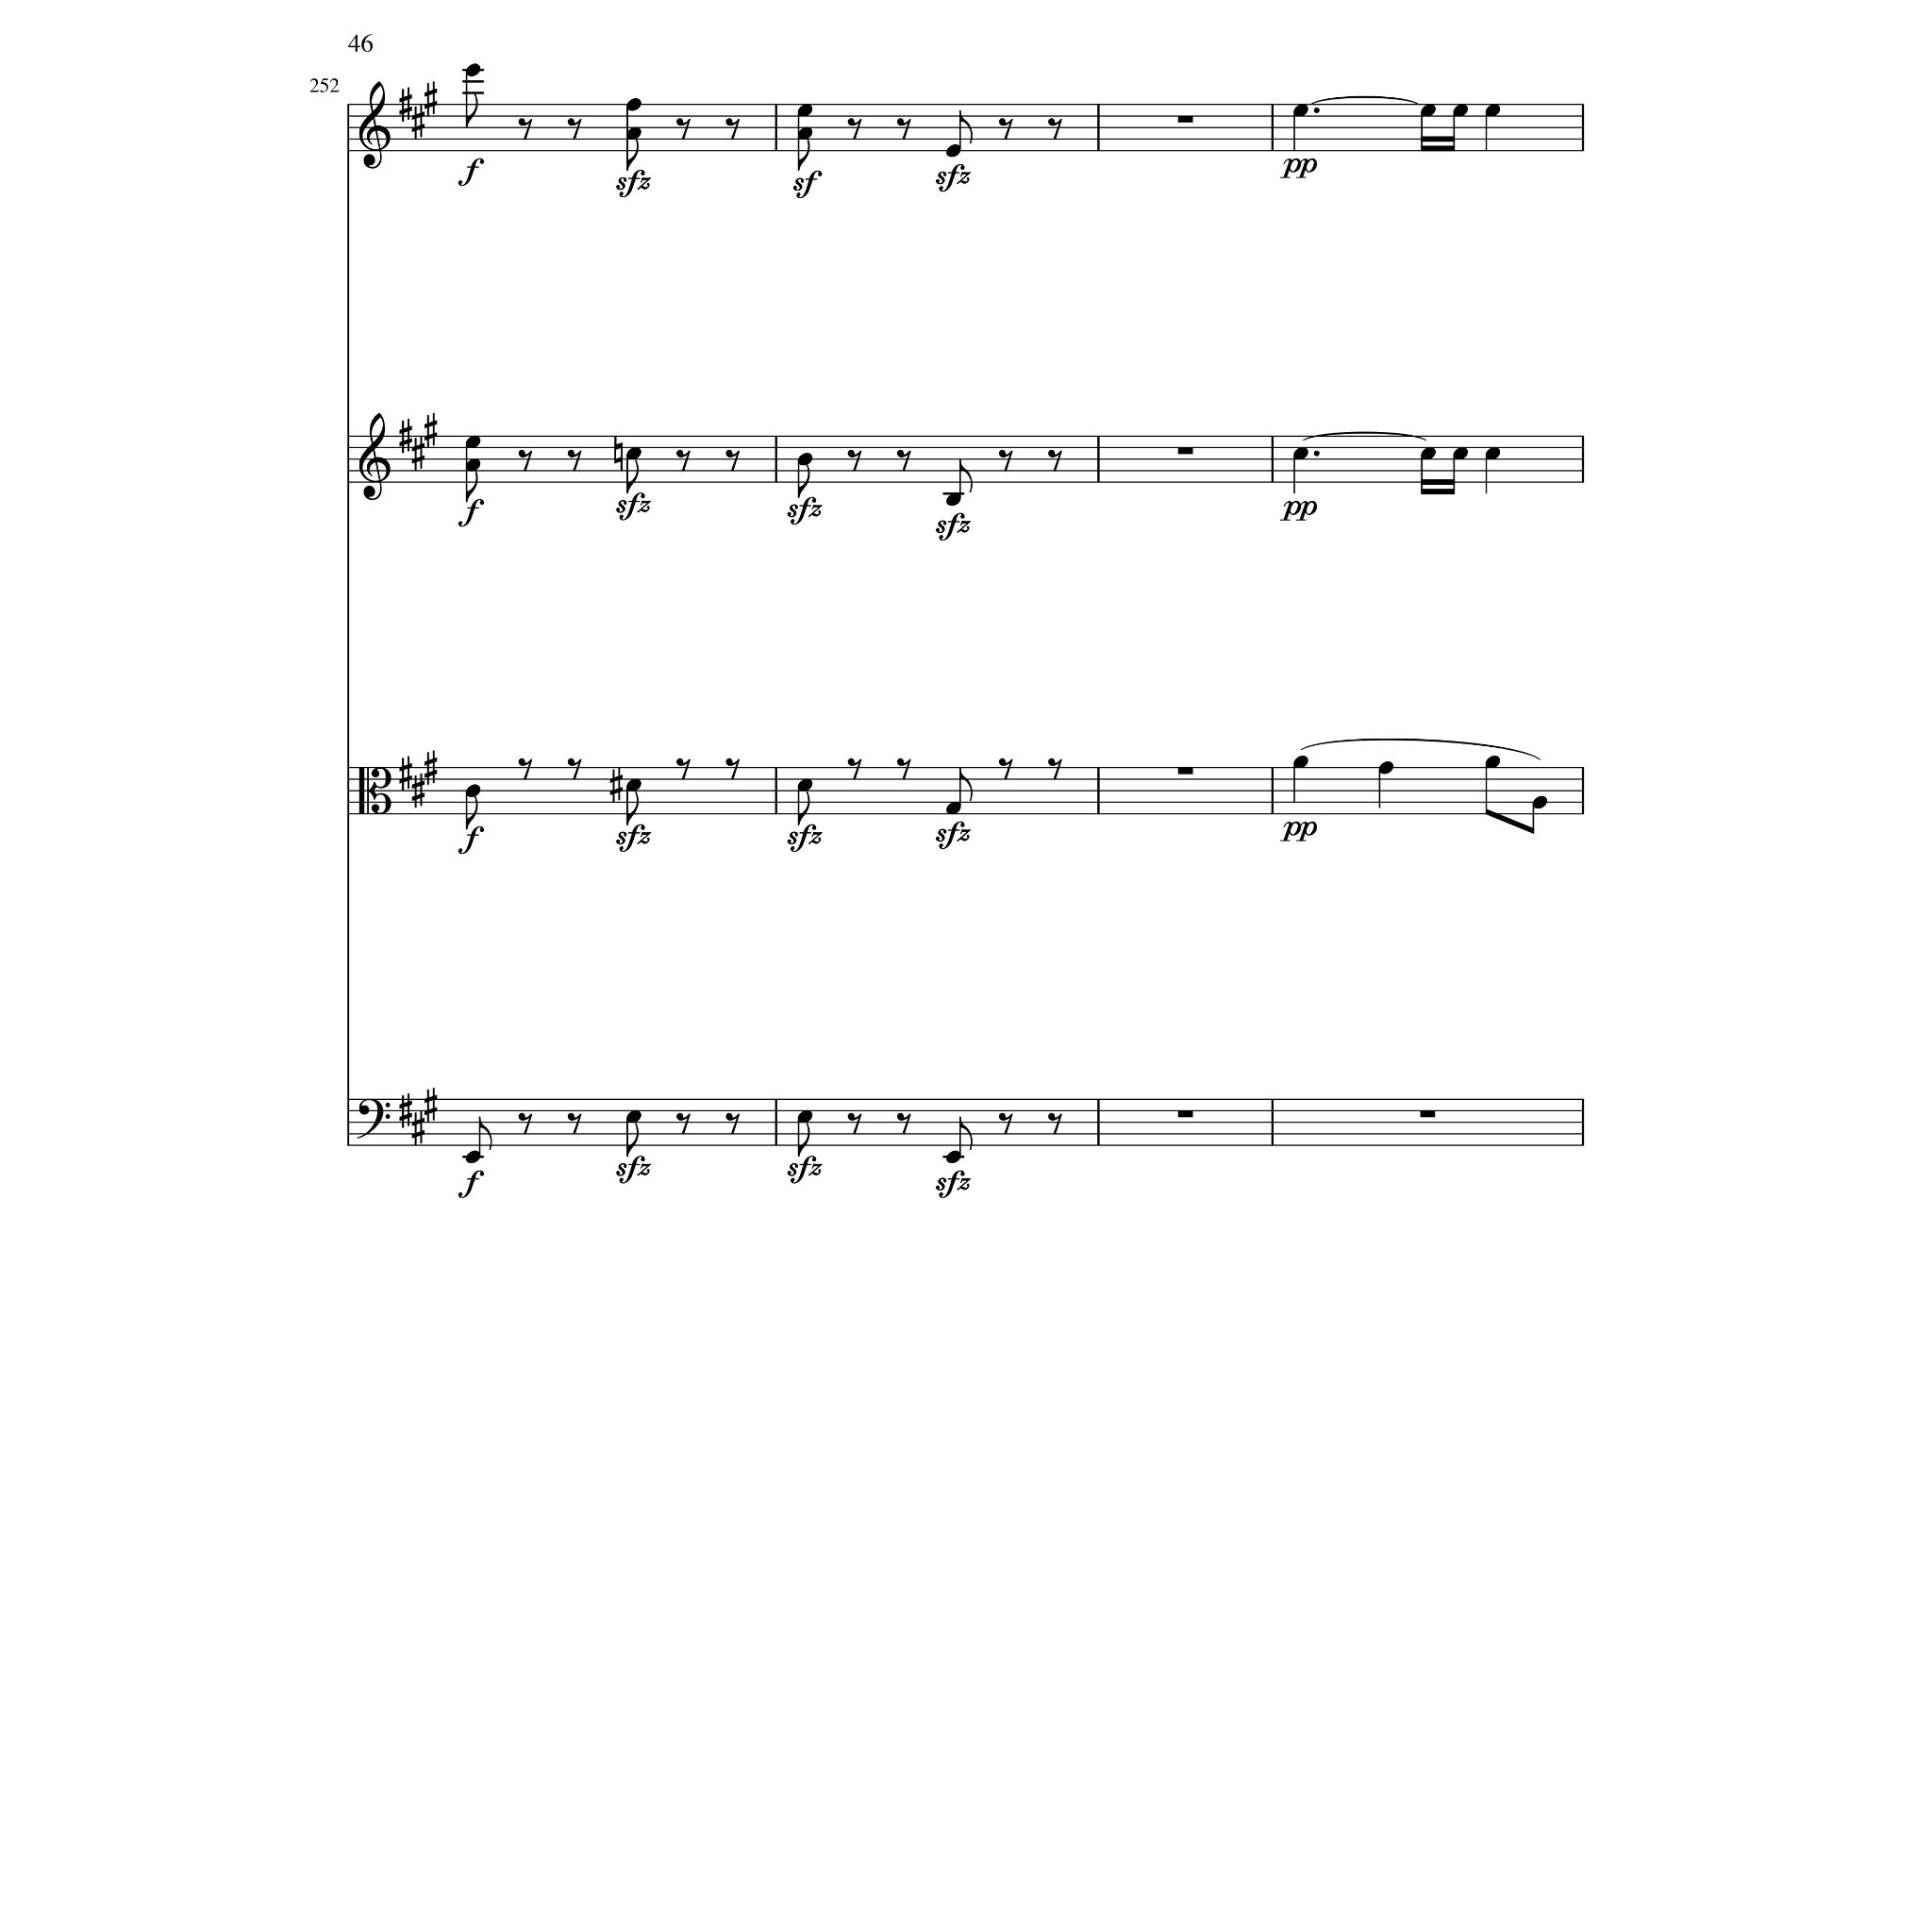fClef: (357, 1098, 391, 1140)
flag8thDown: (626, 137, 640, 171), (626, 460, 640, 494), (626, 791, 640, 825), (626, 1123, 640, 1157), (466, 468, 477, 504), (466, 796, 477, 830), (466, 93, 477, 127), (798, 791, 809, 825), (798, 1123, 809, 1157), (798, 464, 809, 498), (798, 137, 809, 171)
flag8thUp: (959, 459, 973, 493), (959, 110, 973, 144), (959, 1117, 973, 1151), (959, 768, 973, 802), (479, 1117, 492, 1151)
gClef: (358, 412, 391, 501), (358, 81, 391, 170)
noteheadBlack: (945, 492, 962, 508), (1292, 756, 1309, 769), (1292, 447, 1309, 460), (1292, 104, 1309, 117), (945, 144, 962, 158), (945, 1151, 962, 1164), (945, 802, 962, 815), (1377, 761, 1394, 774), (1485, 756, 1502, 769), (1485, 447, 1502, 460), (1485, 104, 1502, 117), (625, 1110, 641, 1124), (625, 779, 641, 792), (625, 447, 641, 460), (625, 98, 641, 111), (625, 127, 641, 141), (464, 1151, 481, 1164), (464, 785, 481, 798), (464, 436, 481, 449), (464, 458, 481, 472), (464, 64, 481, 77), (796, 1110, 813, 1124), (796, 779, 813, 792), (796, 453, 813, 466), (796, 104, 813, 117), (796, 127, 813, 141), (1532, 796, 1547, 809), (1421, 447, 1436, 460), (1421, 104, 1436, 117), (1453, 447, 1468, 460), (1453, 104, 1468, 117)
rest8th: (1047, 1112, 1062, 1135), (1047, 758, 1062, 781), (1047, 449, 1062, 472), (1047, 118, 1062, 141), (998, 1112, 1013, 1135), (998, 758, 1013, 781), (998, 449, 1013, 472), (998, 118, 1013, 141), (567, 118, 582, 141), (567, 449, 582, 472), (567, 758, 582, 781), (567, 1112, 582, 1135), (518, 1112, 533, 1135), (518, 758, 533, 781), (518, 449, 533, 472), (518, 118, 533, 141), (896, 118, 911, 141), (896, 449, 911, 472), (896, 758, 911, 781), (896, 1112, 911, 1135), (847, 1112, 862, 1135), (847, 758, 862, 781), (847, 449, 862, 472), (847, 118, 862, 141), (725, 1112, 741, 1135), (725, 758, 741, 781), (725, 449, 741, 472), (725, 118, 741, 141), (675, 1112, 691, 1135), (675, 758, 691, 781), (675, 449, 691, 472), (675, 118, 691, 141)
restWhole: (1419, 1110, 1436, 1118), (1177, 116, 1192, 124), (1177, 447, 1192, 455), (1177, 768, 1192, 775), (1177, 1110, 1192, 1118)
